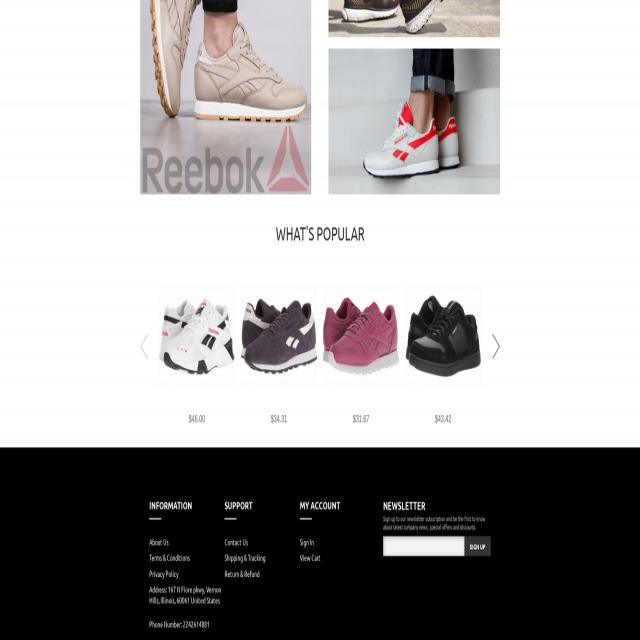button: (140, 0, 311, 194), (328, 49, 500, 194), (158, 266, 236, 406), (240, 266, 318, 406), (322, 266, 400, 406), (404, 266, 482, 406), (328, 0, 500, 55), (465, 536, 491, 556)
field: (383, 536, 465, 556)
